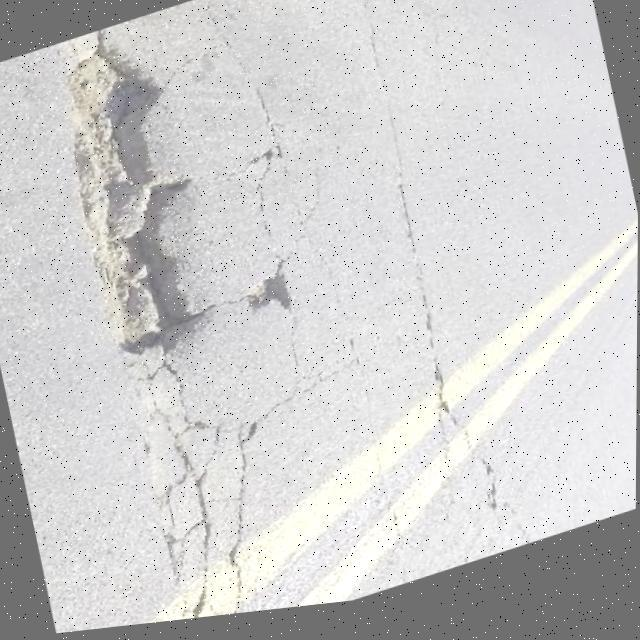pothole: (43, 16, 229, 382), (242, 272, 296, 328)
